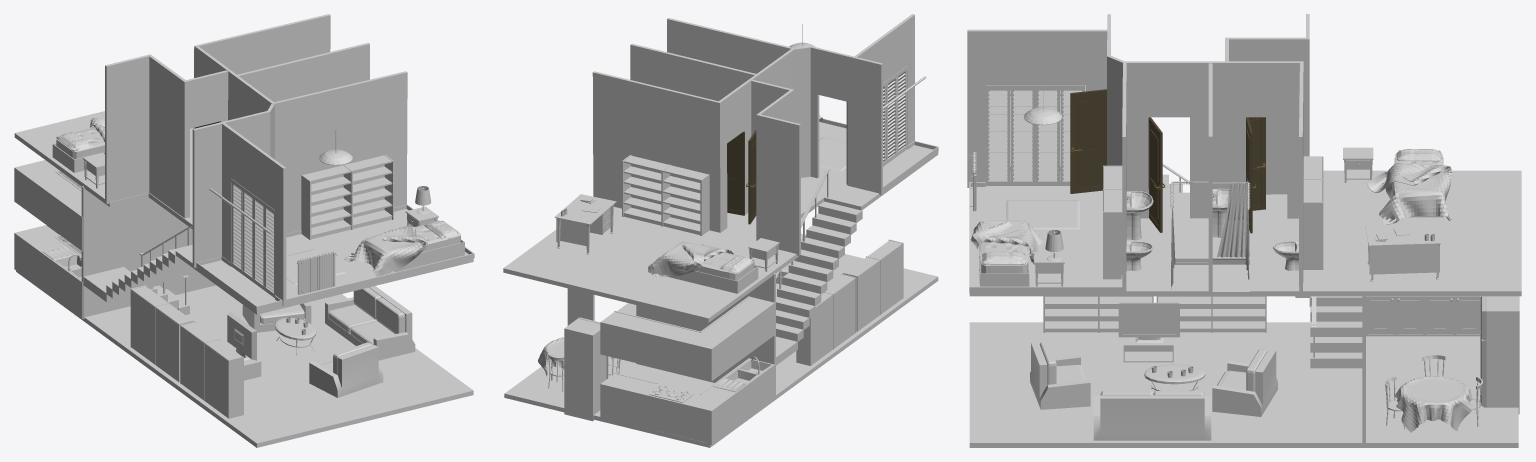
The model's file is townhouse.glb.
The picture shows the model from 3 angles, left to right: view 1: azimuth 30°, elevation 25°; view 2: azimuth 150°, elevation 25°; view 3: azimuth 270°, elevation 25°; orthographic projection. The views are drawn at different scales.
Visible parts, largest first — view 1: static; view 2: static, door_0, door_3; view 3: static, door_2, door_1, door_3, door_0.
Part boxes in pixels (box(x1,y1,x2,y2)): static: box(14, 14, 474, 447); static: box(503, 14, 938, 447); door_0: box(727, 131, 744, 215); door_3: box(746, 130, 756, 224); static: box(967, 14, 1521, 447); door_2: box(1070, 89, 1106, 193); door_1: box(1148, 117, 1165, 232); door_3: box(1248, 117, 1265, 210); door_0: box(1246, 117, 1256, 233).
Size of the model in its own units: 4.91 by 5.86 by 9.37.
